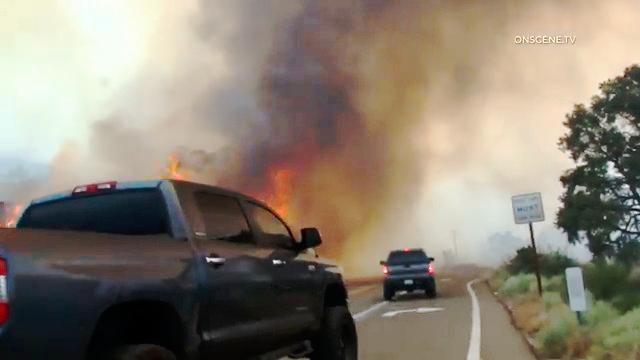smoke: (200, 17, 457, 136)
